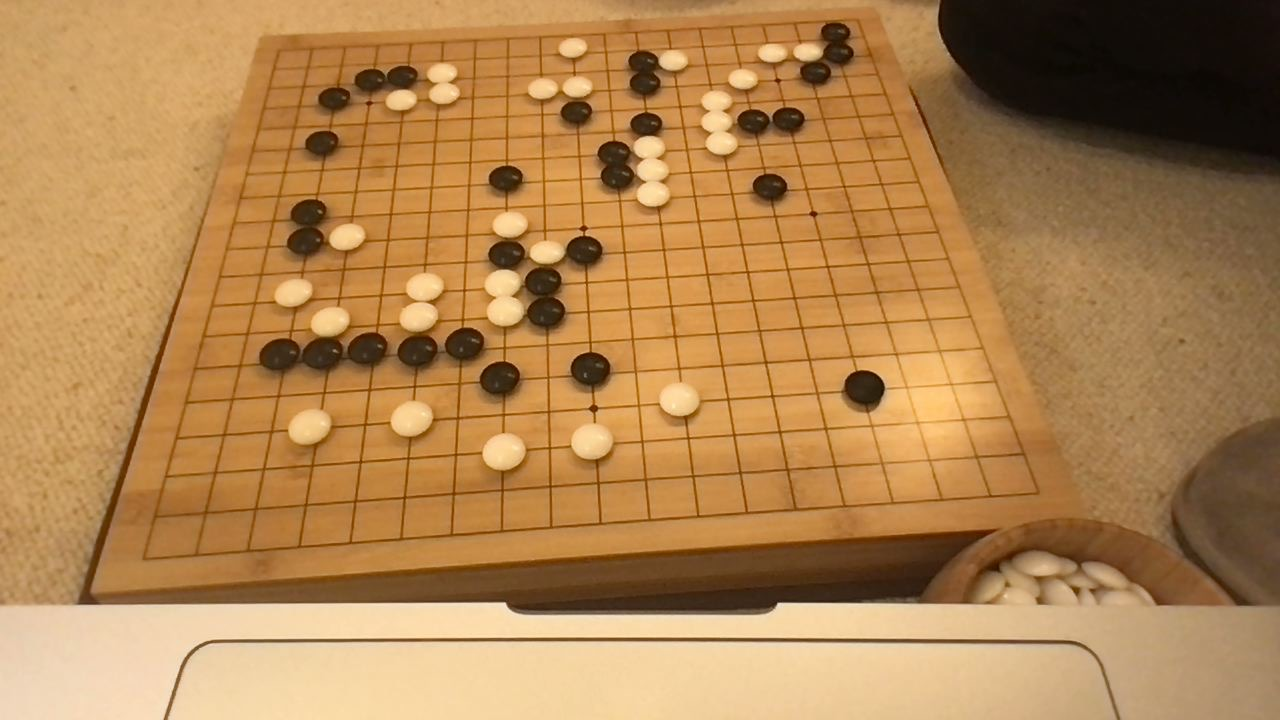stone_1: (479, 359, 523, 396), (571, 350, 613, 388), (302, 336, 345, 373), (843, 370, 887, 406), (258, 336, 302, 372), (396, 333, 439, 368), (347, 331, 389, 365), (445, 328, 486, 360), (286, 225, 326, 257), (752, 172, 789, 205), (527, 297, 566, 328), (565, 233, 604, 264), (523, 265, 564, 294), (487, 163, 525, 194), (486, 241, 527, 269), (290, 198, 329, 225), (736, 109, 772, 137), (598, 164, 636, 190), (304, 130, 341, 156), (773, 105, 806, 134), (597, 140, 632, 165), (560, 100, 595, 125), (820, 40, 856, 64), (318, 85, 351, 111), (630, 111, 665, 135), (386, 64, 420, 88), (629, 71, 663, 95), (626, 49, 660, 73), (354, 68, 386, 93), (799, 61, 832, 85), (819, 21, 853, 43)
stone_2: (570, 421, 617, 462), (287, 409, 333, 449), (483, 431, 527, 472), (658, 380, 702, 420), (390, 400, 433, 440), (327, 220, 367, 255), (402, 272, 446, 303), (397, 301, 439, 332), (273, 277, 315, 307), (310, 306, 351, 336), (487, 209, 527, 239), (483, 268, 523, 298), (486, 297, 524, 328), (633, 181, 673, 209), (700, 131, 740, 158), (528, 239, 566, 264), (636, 158, 671, 182), (699, 110, 735, 133), (630, 137, 667, 159), (727, 67, 760, 91), (755, 42, 789, 65), (558, 36, 589, 61), (658, 47, 690, 71), (385, 89, 418, 112), (429, 83, 462, 106), (526, 77, 558, 100), (701, 89, 734, 111), (561, 75, 593, 97), (426, 62, 458, 84), (793, 40, 825, 62)
